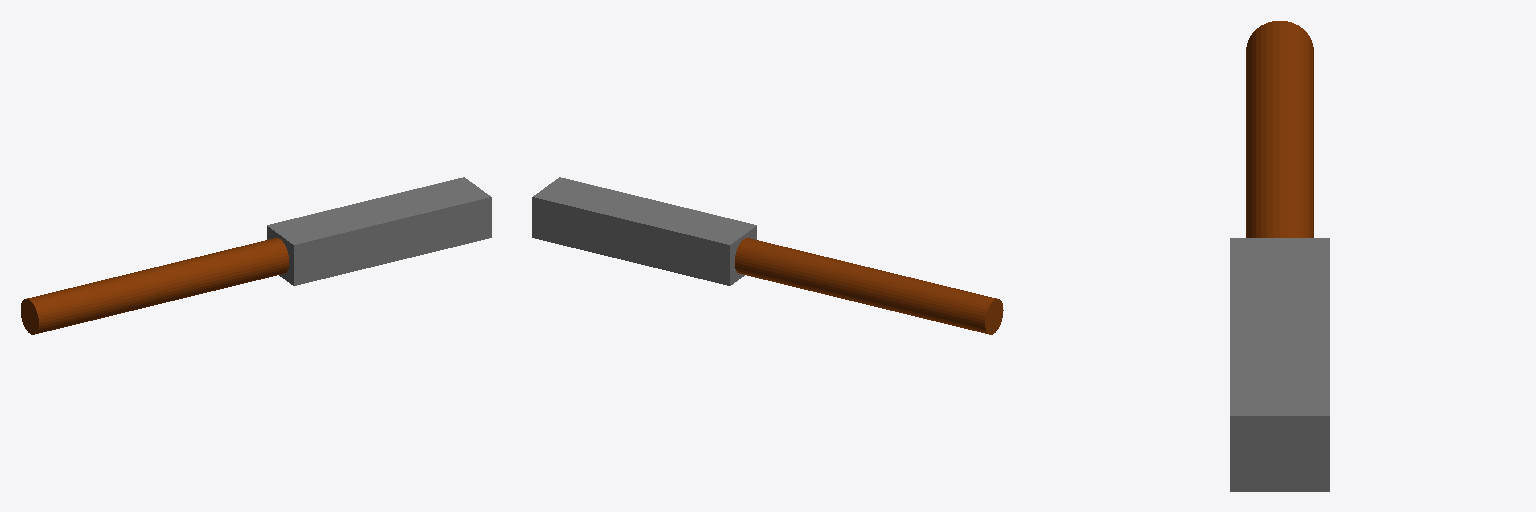
robot.urdf — handle_head:
<?xml version="1.0"?>
<robot name="handle_head">

  <link name="handle_head">
    <!-- Handle -->
    <visual>
              <origin xyz="0 0 0" rpy="0 -1.5707963267948966 0"/>
        <geometry>
          <cylinder length="0.1766795963828199" radius="0.011295324670617269"/>
        </geometry>
        
      <material name="brown">
        <color rgba="0.55 0.27 0.07 1.0"/>
      </material>
    </visual>
    <collision>
              <origin xyz="0 0 0" rpy="0 -1.5707963267948966 0"/>
        <geometry>
          <cylinder length="0.1766795963828199" radius="0.011295324670617269"/>
        </geometry>
        
    </collision>

    <!-- Head -->
    <visual>
              <origin xyz="0.1580919989636791 0 0" rpy="0 0 0"/>
        <geometry>
          <box size="0.13950440154453825 0.03316971373205197 0.027687248450574957"/>
        </geometry>
        
      <material name="gray">
        <color rgba="0.5 0.5 0.5 1.0"/>
      </material>
    </visual>
    <collision>
              <origin xyz="0.1580919989636791 0 0" rpy="0 0 0"/>
        <geometry>
          <box size="0.13950440154453825 0.03316971373205197 0.027687248450574957"/>
        </geometry>
        
    </collision>

    <inertial>
      <origin xyz="0.07946724335145287 0 0" rpy="0 0 0"/>
      <mass value="0.08316232844562199"/>
      <inertia ixx="9.100132550383795e-06" iyy="0.0007183745317671407" izz="0.0007195368092161242" ixy="0" ixz="0" iyz="0"/>
    </inertial>
  </link>

</robot>

--- Render facts (derived) ---
3 views of the same robot in one strip: view 1: azimuth 30°, elevation 25°; view 2: azimuth 150°, elevation 25°; view 3: azimuth 270°, elevation 25° (orthographic).
Robot: handle_head — 1 links, 0 joints (none); root link handle_head; default pose: all joints at 0.
Visible links, largest first — view 1: handle_head; view 2: handle_head; view 3: handle_head.
Link boxes in pixels (box(x1,y1,x2,y2)): handle_head: box(21, 177, 491, 334); handle_head: box(532, 177, 1003, 334); handle_head: box(1230, 21, 1329, 491).
Size in the robot's own frame: 0.3162 by 0.0332 by 0.0277 metres.
Geometry: primitives only (box / cylinder / sphere), no mesh files.
